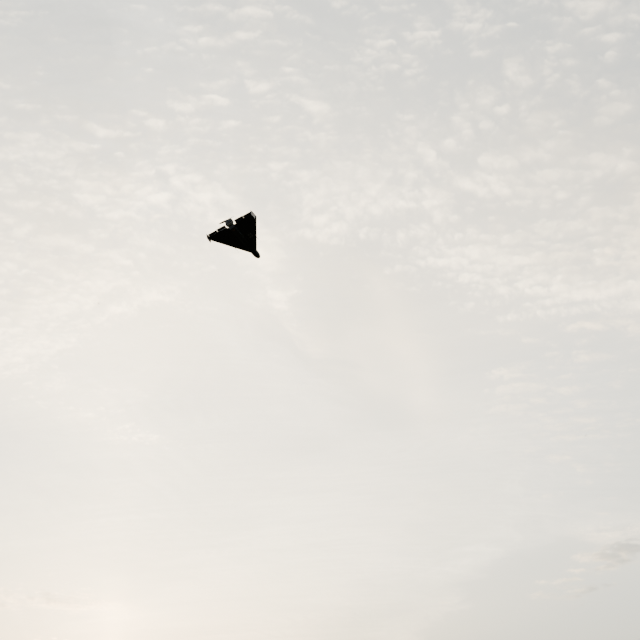shahed: (206, 210, 260, 259)
